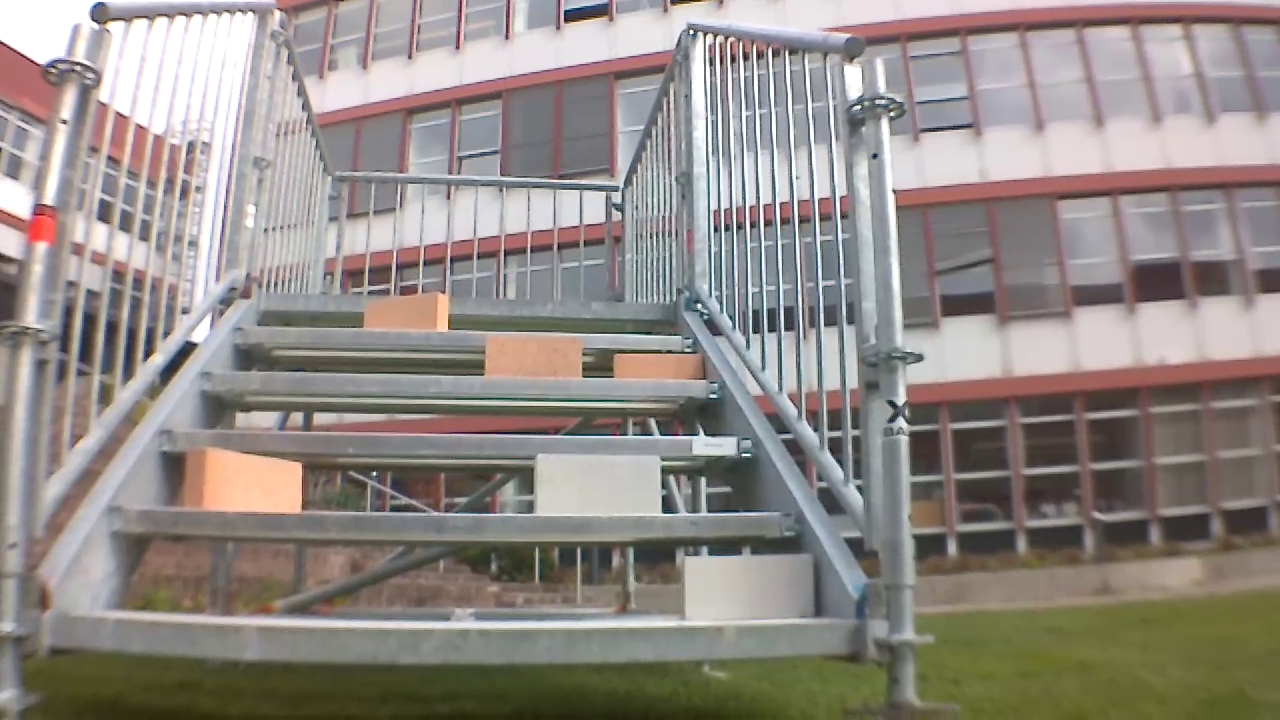brick: (684, 555, 814, 620), (533, 453, 661, 513), (184, 448, 300, 511), (485, 334, 581, 375), (364, 293, 449, 329), (615, 354, 701, 377)
edge: (52, 609, 859, 664), (109, 505, 797, 540), (162, 427, 753, 459), (201, 371, 720, 400), (262, 291, 675, 321), (234, 326, 692, 352)
stairs: (4, 3, 935, 716)
steps: (48, 285, 865, 672)
